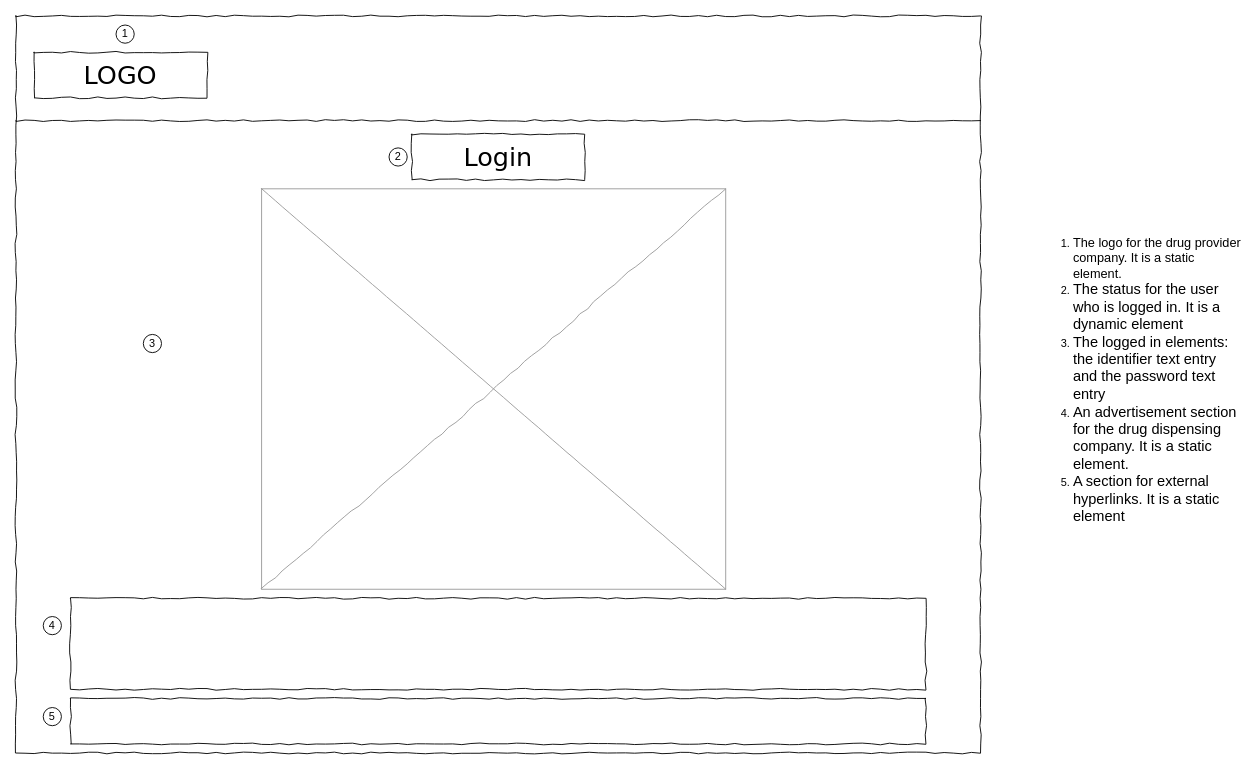
The diagram is 1260 pixels wide and 769 high, and some of its shapes have lost their labels. Each missing label, with the centre of its shape:
At drug consultancy, your health is our ultimate focus: (498,643)
External Links: (498,721)
